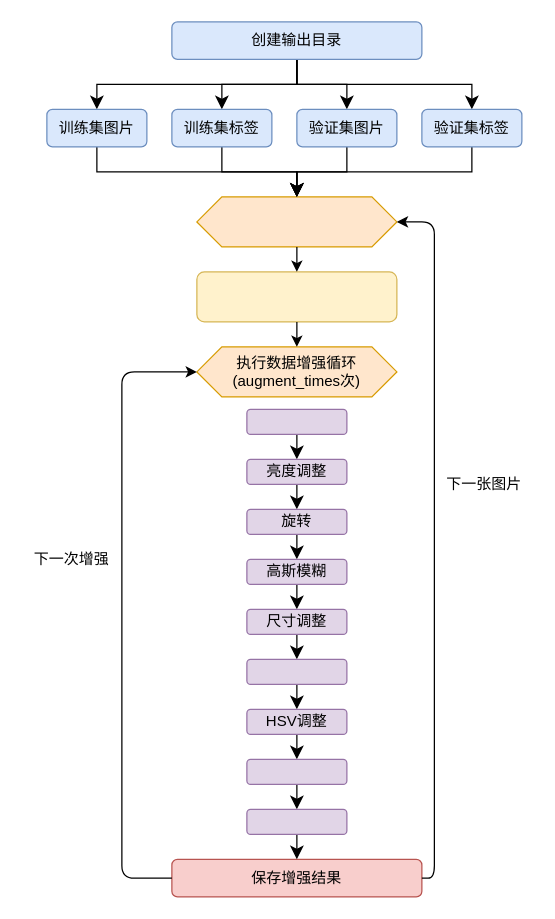
Image size: 555x919. Some labels were removed from this diagram. The centre of each missing label's shape, as x and y in pixels:
弹性变换: point (296, 771)
水平翻转: point (296, 421)
读取图片和对应的YOLO标签: point (296, 296)
遍历原始图片目录: point (296, 221)
随机缩放: point (296, 821)
随机裁剪: point (296, 671)
